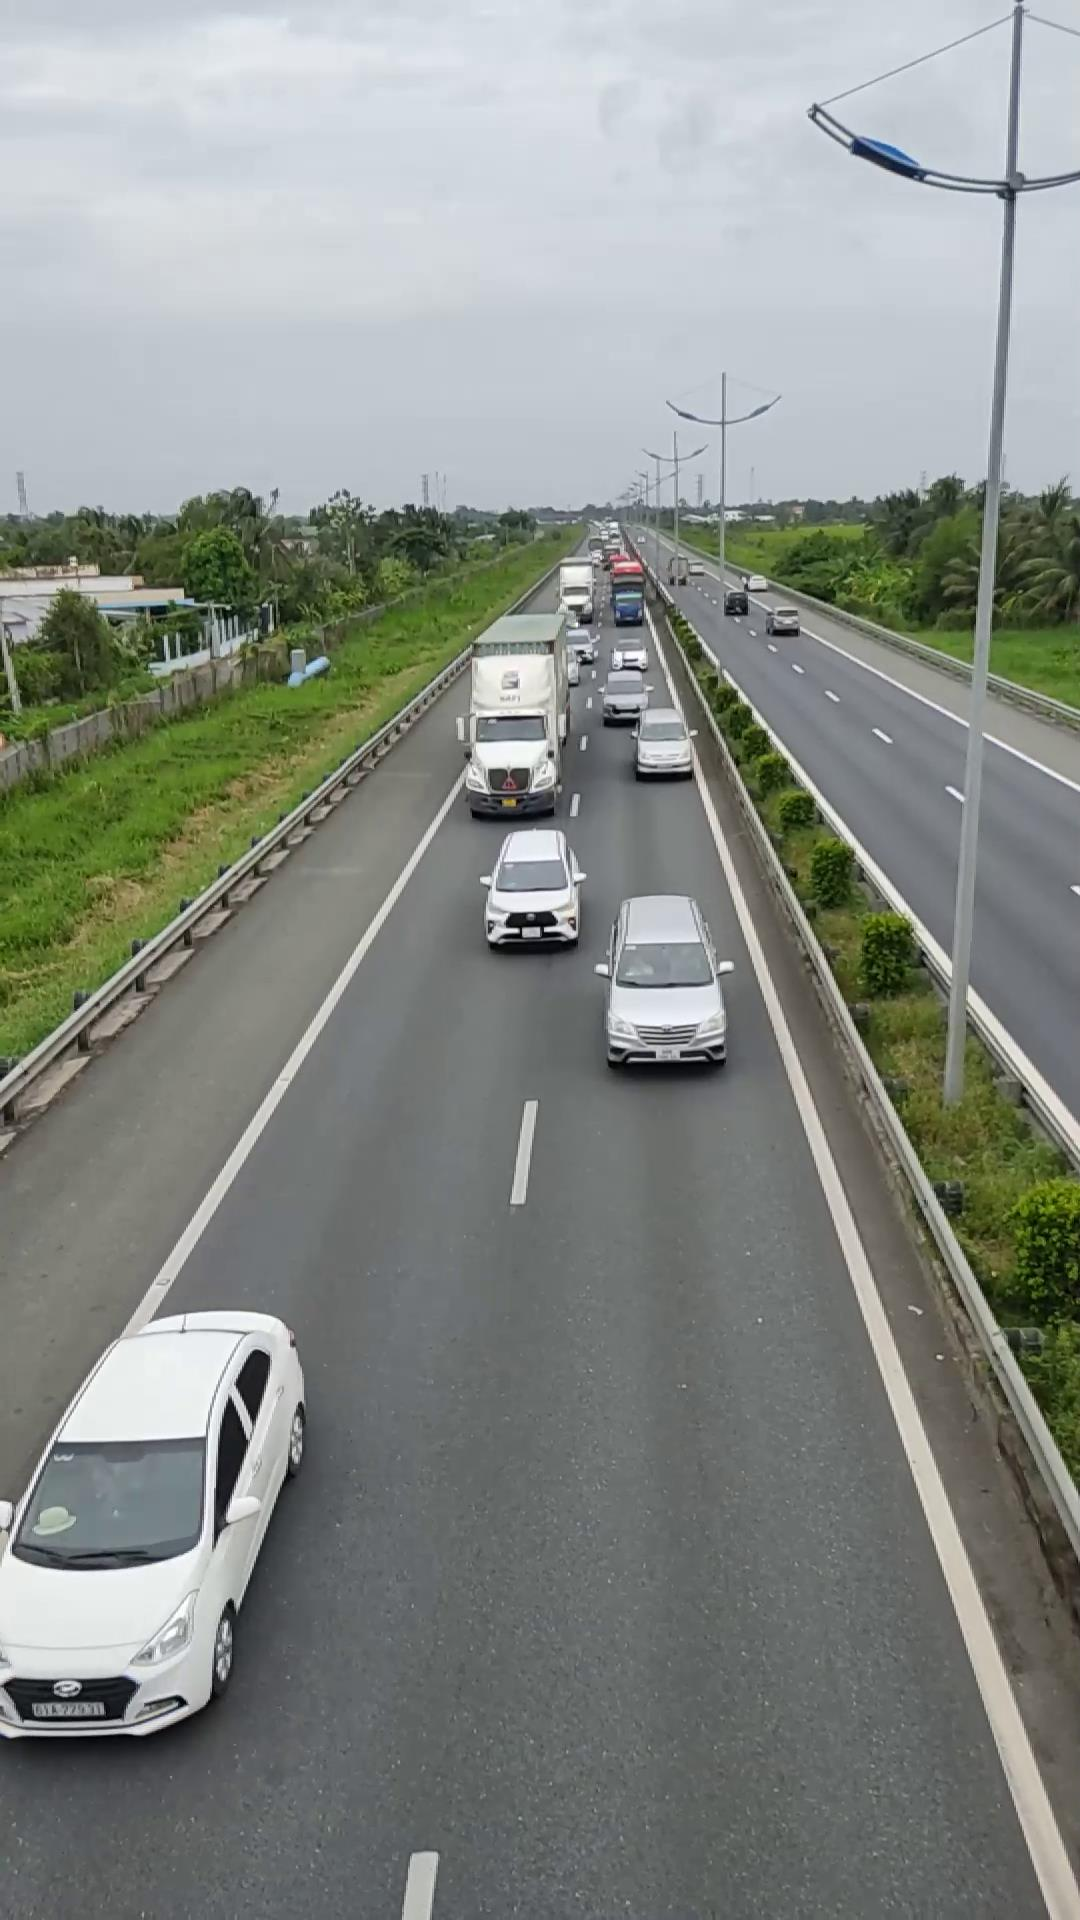car: (0, 1306, 311, 1741), (600, 892, 730, 1070), (480, 823, 586, 950), (632, 710, 697, 778)
container: (458, 607, 573, 816)
